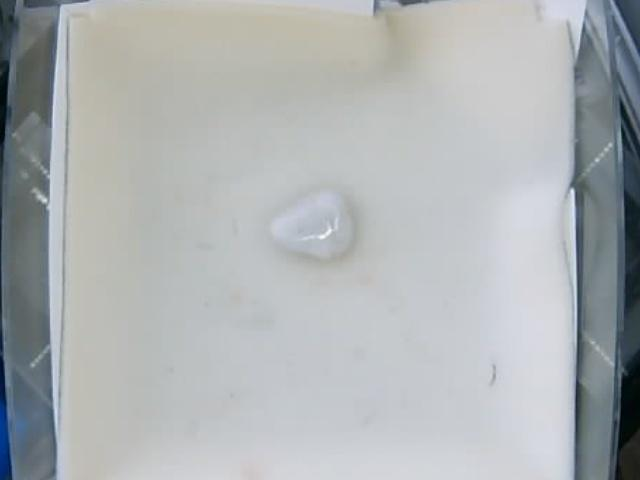Pebble: (273, 188, 354, 262)
